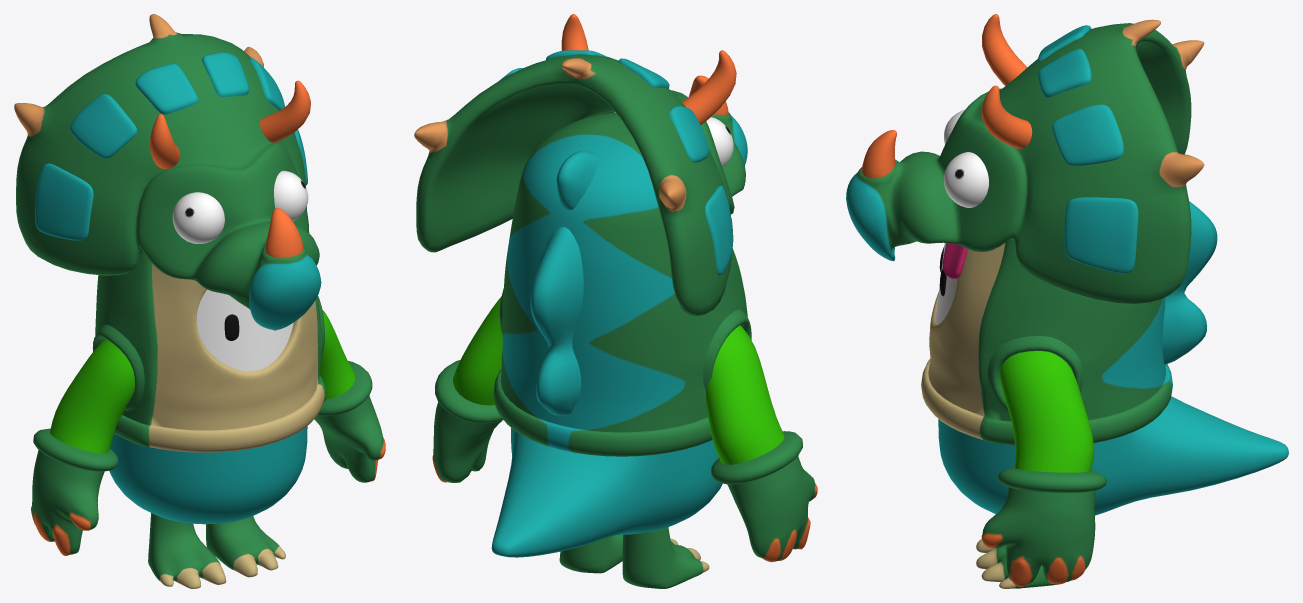
The picture shows the model from 3 angles, left to right: view 1: azimuth 30°, elevation 25°; view 2: azimuth 150°, elevation 25°; view 3: azimuth 270°, elevation 25°; orthographic projection. The views are drawn at different scales.
Visible parts, largest first — view 1: Object_2; view 2: Object_2; view 3: Object_2.
Boxes of the visible parts, left/top/right/bottom form: Object_2: left=14, top=14, right=385, bottom=588; Object_2: left=414, top=14, right=817, bottom=588; Object_2: left=846, top=14, right=1288, bottom=588.
Size of the model in its own units: 2.76 by 4.04 by 3.01.
1 material, 1 textured.
